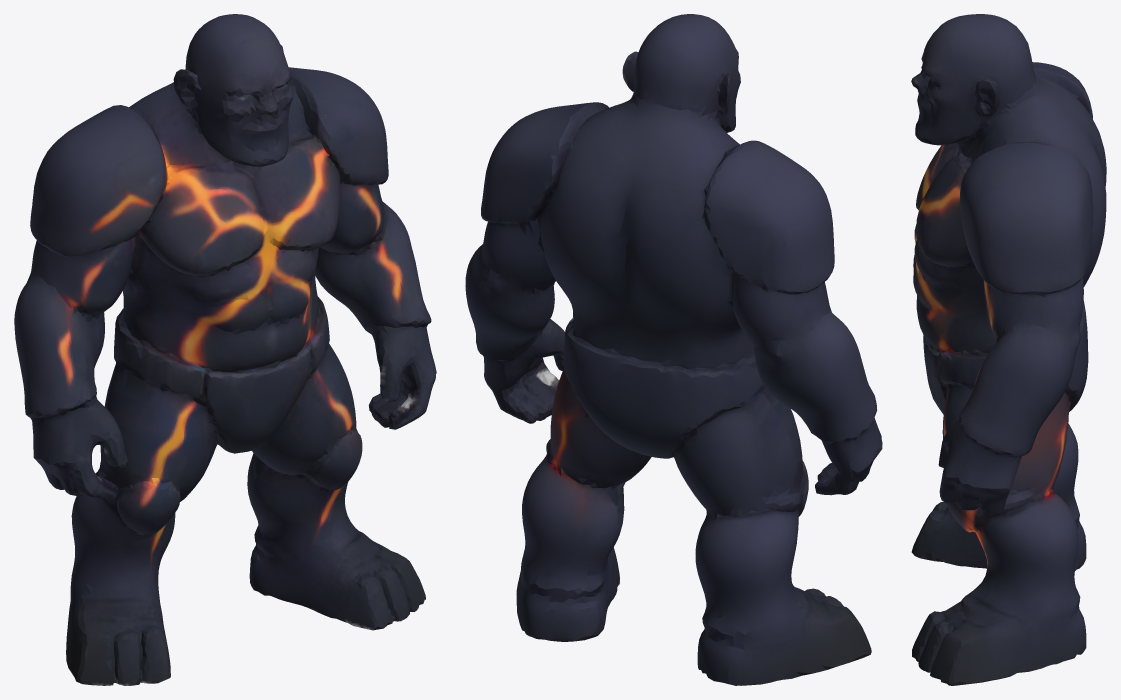
File: rodin_Forge_Golem_raw.glb
3 renders of one model, left to right at view 1: azimuth 30°, elevation 25°; view 2: azimuth 150°, elevation 25°; view 3: azimuth 270°, elevation 25°, orthographic. The views are drawn at different scales.
Parts seen in each view (by area): view 1: model; view 2: model; view 3: model.
Part boxes in pixels (x1,y1,x2,y2): model: (14, 14, 436, 685); model: (465, 14, 882, 685); model: (911, 14, 1106, 685).
Bounding box in the file's own units: 1.29 × 1.9 × 0.575.
1 material, 1 textured.
